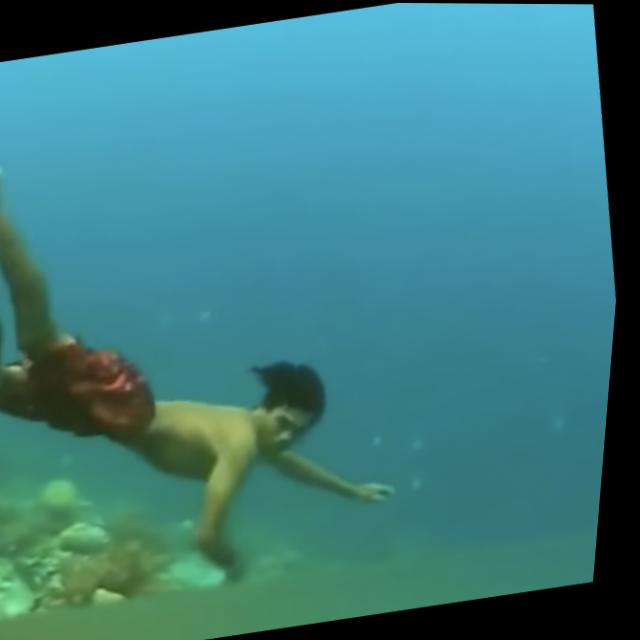human: (0, 85, 452, 629)
